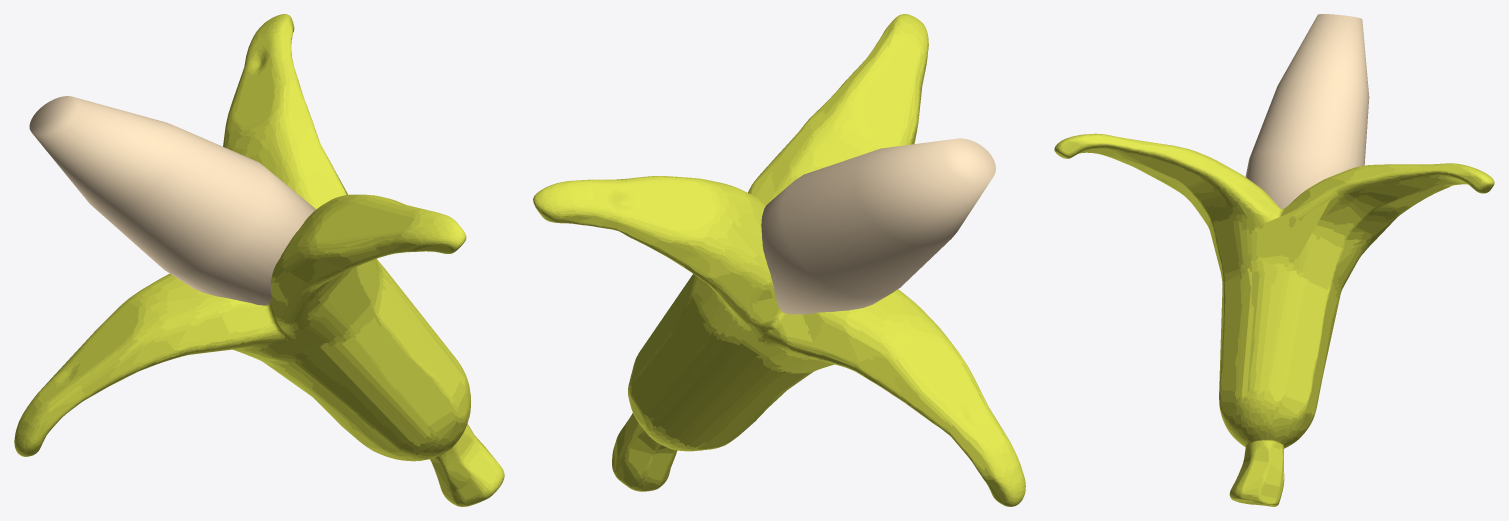
File: banana.fbx
3 renders of one model, left to right at view 1: azimuth 30°, elevation 25°; view 2: azimuth 150°, elevation 25°; view 3: azimuth 270°, elevation 25°, orthographic. The views are drawn at different scales.
Visible parts, largest first — view 1: uploads_files_2740539_Banana_PeelDEC; view 2: uploads_files_2740539_Banana_PeelDEC; view 3: uploads_files_2740539_Banana_PeelDEC.
Boxes of the visible parts, x1,y1,x2,y2 form: uploads_files_2740539_Banana_PeelDEC: (14, 14, 504, 506); uploads_files_2740539_Banana_PeelDEC: (533, 14, 1025, 506); uploads_files_2740539_Banana_PeelDEC: (1054, 14, 1494, 506).
Size of the model in its own units: 8 by 7.9 by 8.73.
